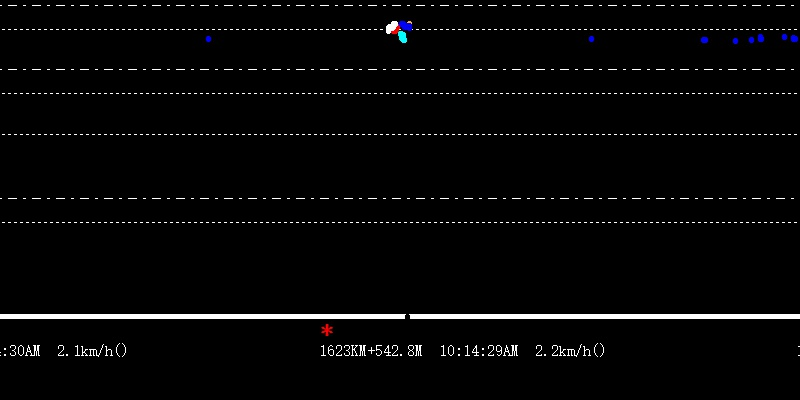face_2: (385, 17, 412, 44)
star: (319, 321, 333, 338)
